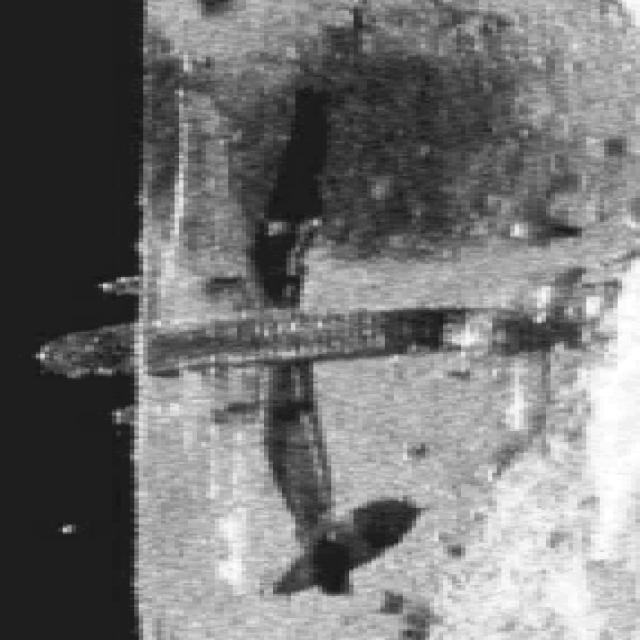plane: (49, 92, 510, 598)
